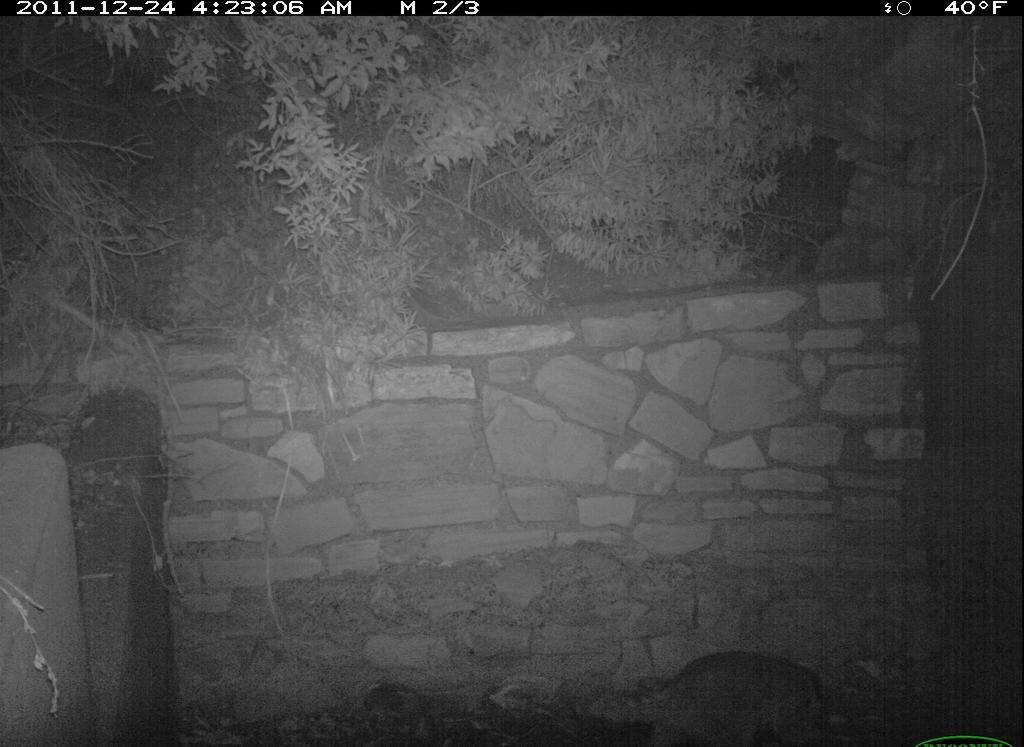raccoon: (580, 611, 838, 747)
